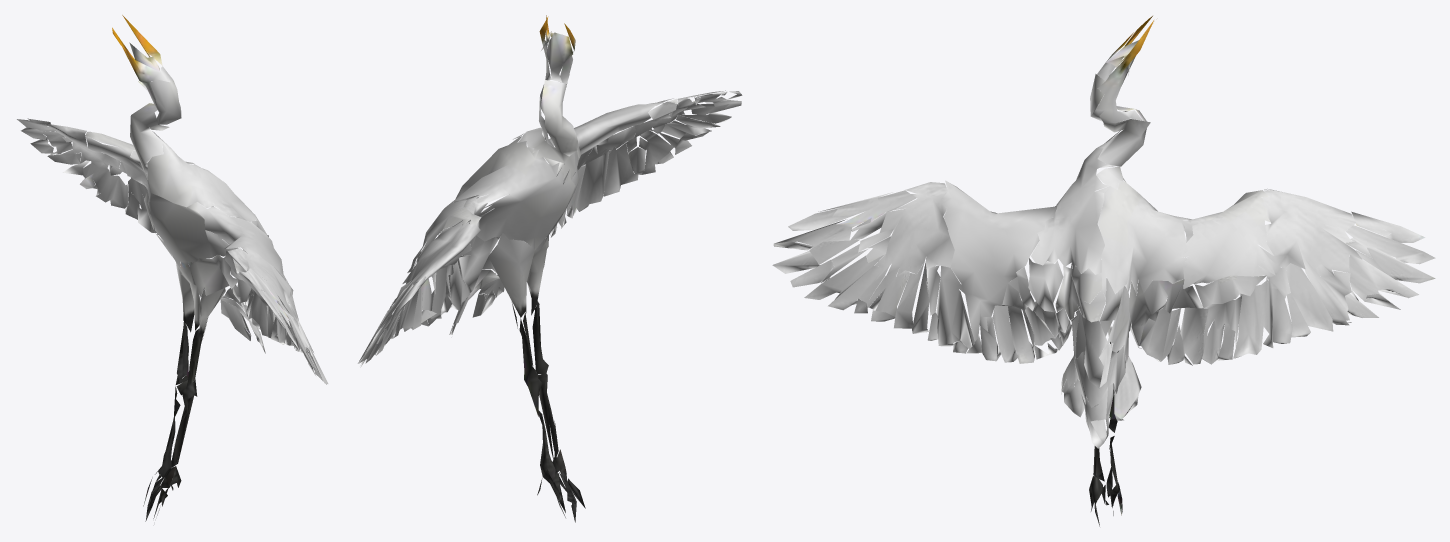
The model's file is egret.glb.
The picture shows the model from 3 angles, left to right: view 1: azimuth 30°, elevation 25°; view 2: azimuth 150°, elevation 25°; view 3: azimuth 270°, elevation 25°; orthographic projection. The views are drawn at different scales.
Visible parts, largest first — view 1: tripo_node_964fa591-553e-47ce-9cb2-a1d3ef2ac64e; view 2: tripo_node_964fa591-553e-47ce-9cb2-a1d3ef2ac64e; view 3: tripo_node_964fa591-553e-47ce-9cb2-a1d3ef2ac64e.
Part boxes in pixels (x1=…): tripo_node_964fa591-553e-47ce-9cb2-a1d3ef2ac64e: x1=17, y1=15, x2=328, y2=521; tripo_node_964fa591-553e-47ce-9cb2-a1d3ef2ac64e: x1=358, y1=15, x2=742, y2=522; tripo_node_964fa591-553e-47ce-9cb2-a1d3ef2ac64e: x1=772, y1=16, x2=1435, y2=526.
Bounding box in the file's own units: 0.5608 × 1.62 × 1.9.
1 material, 1 textured.
